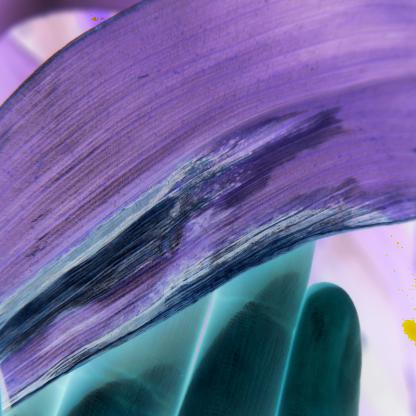corn leaf blight: (6, 16, 409, 379)
